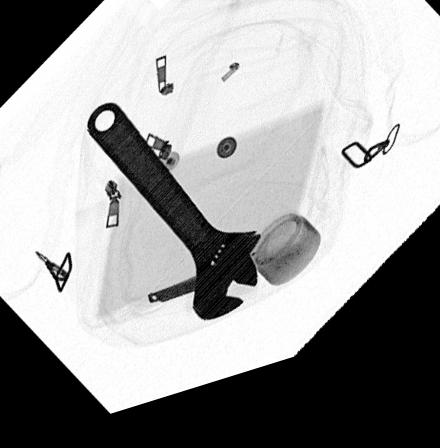Wrench: (85, 105, 264, 335)
